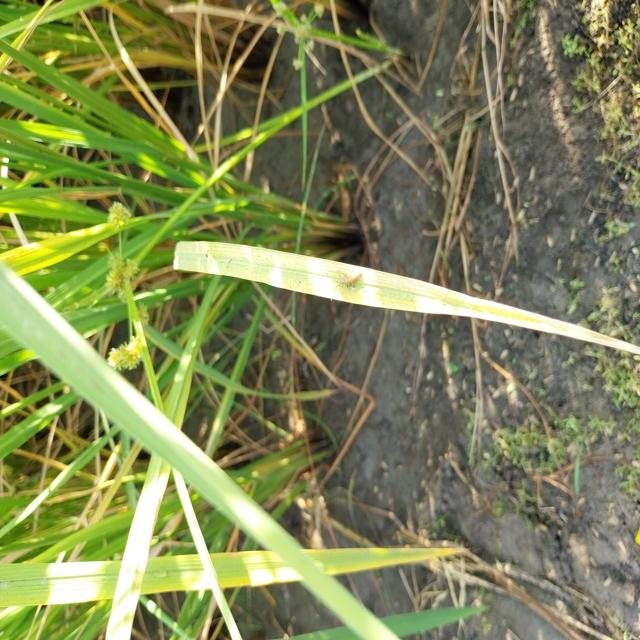healthy: (326, 259, 374, 303)
